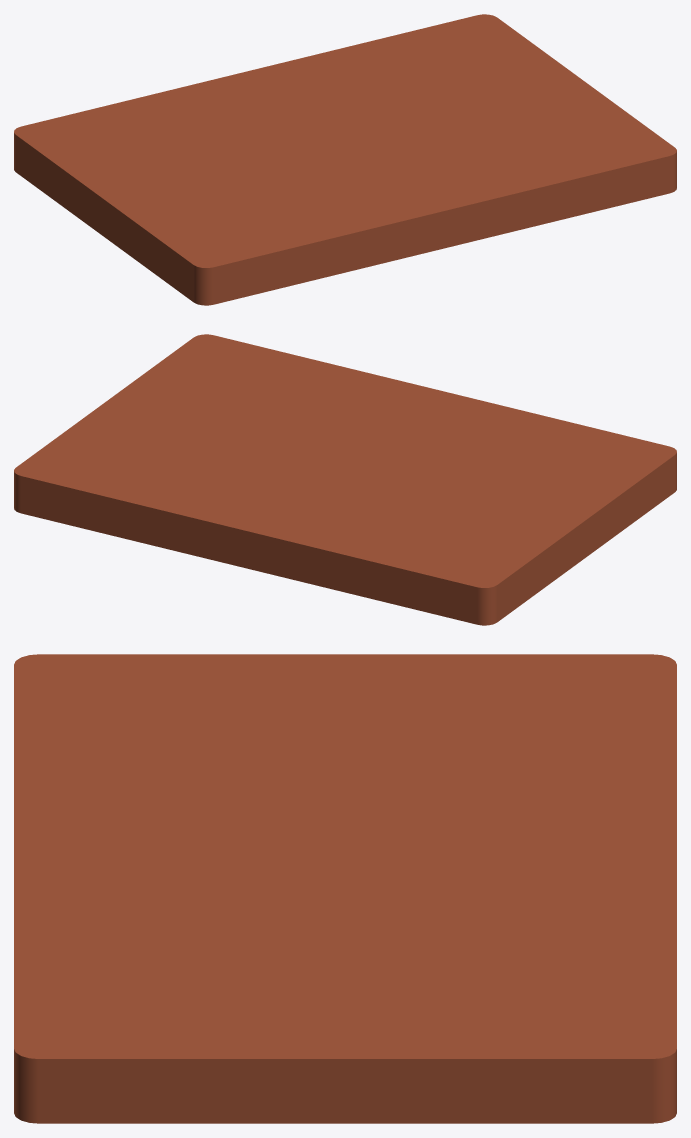
The model's file is living-design-book.gltf.
3 renders of one model, top to bottom at view 1: azimuth 30°, elevation 25°; view 2: azimuth 150°, elevation 25°; view 3: azimuth 270°, elevation 25°, orthographic. The views are drawn at different scales.
Parts seen in each view (by area): view 1: Coffee table design book; view 2: Coffee table design book; view 3: Coffee table design book.
Part boxes in pixels (left/top/right/bottom): Coffee table design book: left=14, top=14, right=676, bottom=305; Coffee table design book: left=14, top=334, right=676, bottom=625; Coffee table design book: left=14, top=654, right=676, bottom=1123.
Size of the model in its own units: 0.39 by 0.029 by 0.27.
